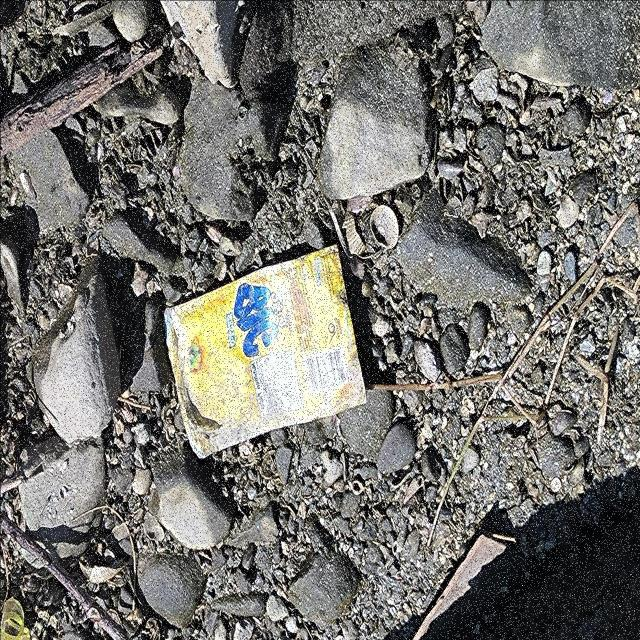plastic_waste: (163, 242, 369, 461)
